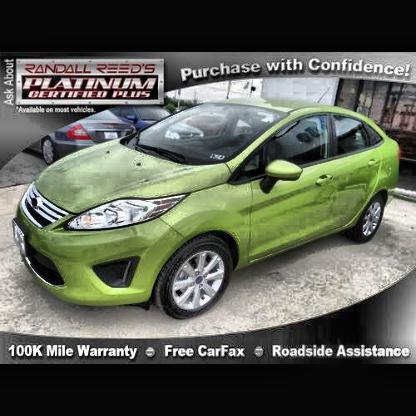Ford Fiesta Sedan 2012: (12, 98, 400, 321)
